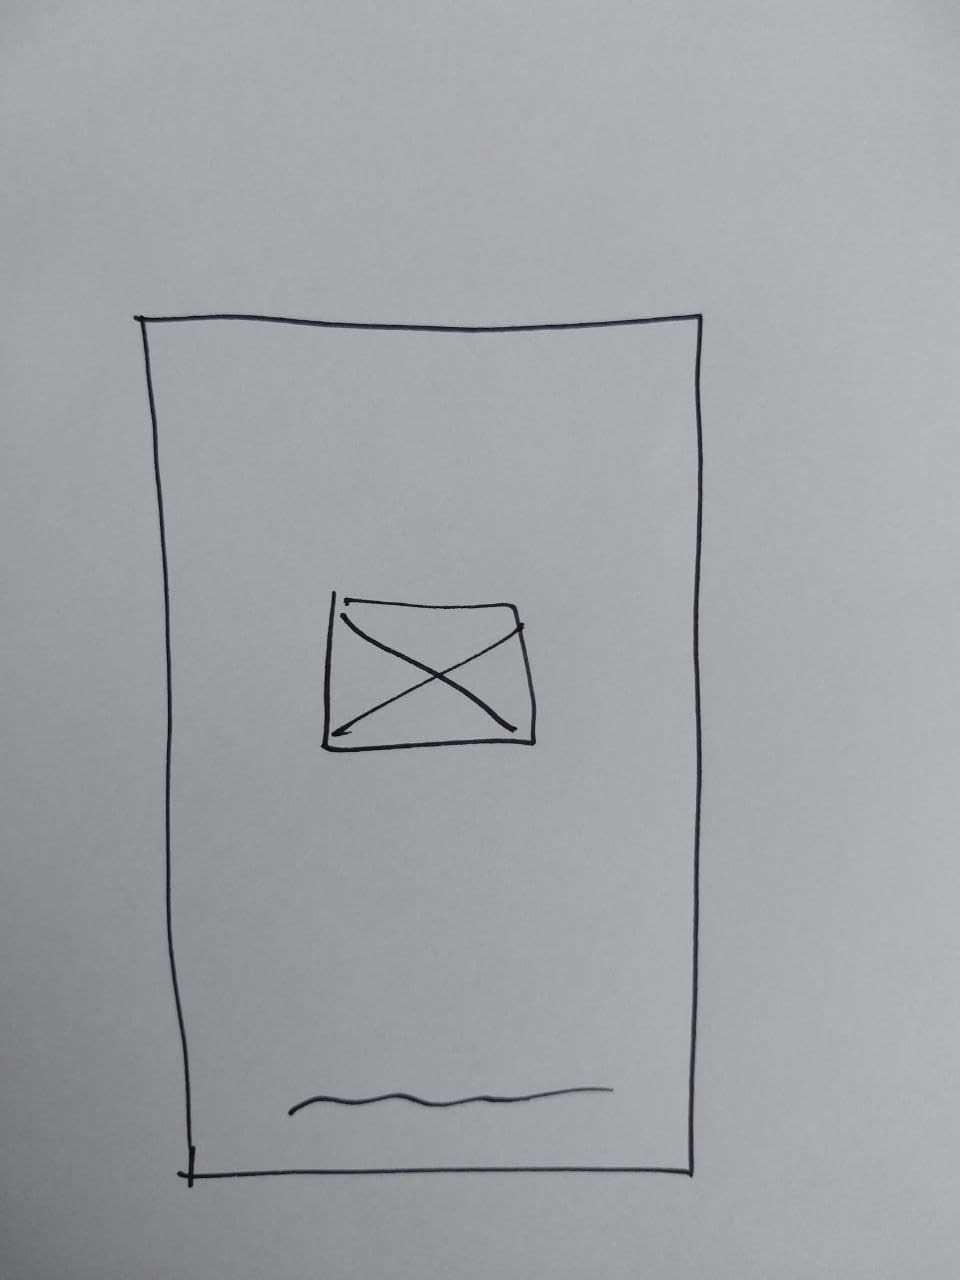Image: (325, 597, 537, 753)
Label: (286, 1081, 617, 1116)
Screen: (138, 312, 708, 1179)
